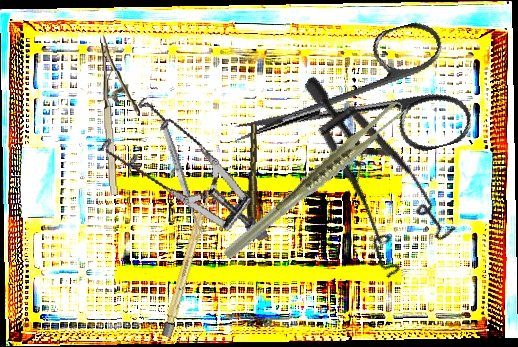Iris Scissors: (217, 14, 477, 199)
Needle Holder: (100, 32, 143, 196)
Scalpel Handle: (161, 186, 214, 338)
Speculum: (241, 73, 487, 297), (88, 74, 269, 280)
Surgical Spoon: (158, 116, 204, 238)
Tissue Forceps: (200, 97, 428, 263), (242, 122, 264, 245)
